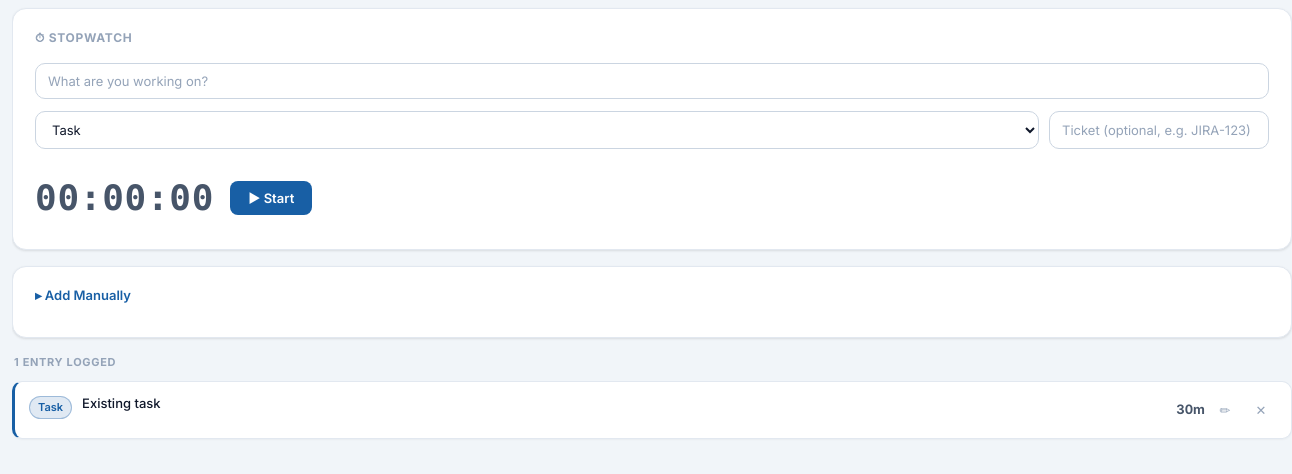
Test: LogTab delete › surfaces an error message instead of silently failing
This screenshot has width=1292, height=474.
Click the button titled "Delete" at (1261, 410), box 1245,394 -> 1277,426
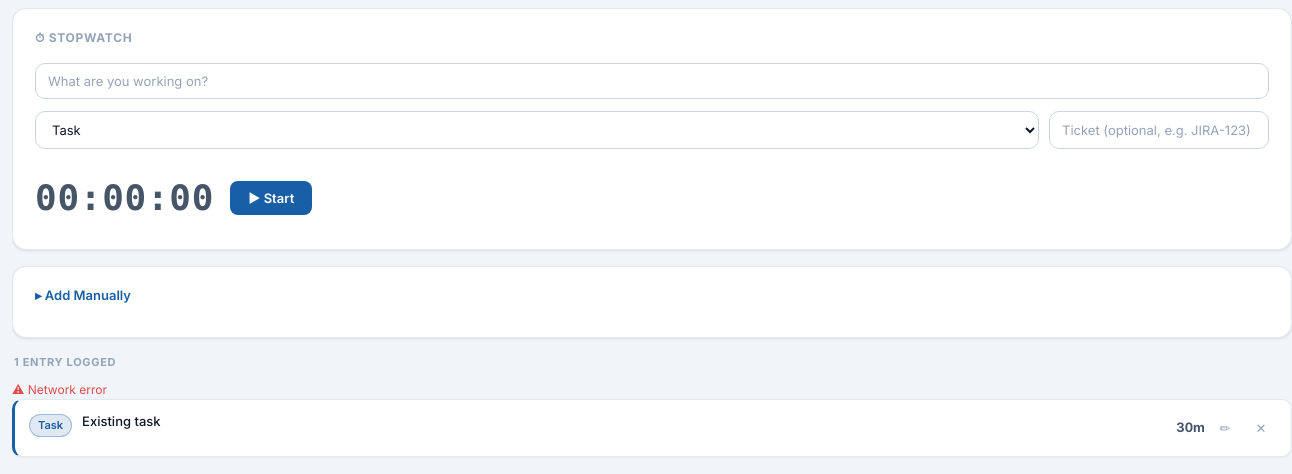
Check: the text "⚠ Network error" is shown, box 12,382 -> 107,396
